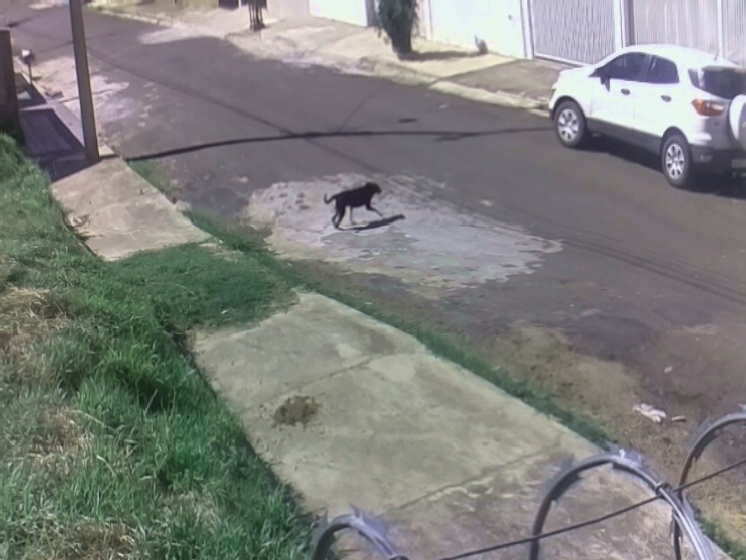person: (714, 36, 741, 125)
